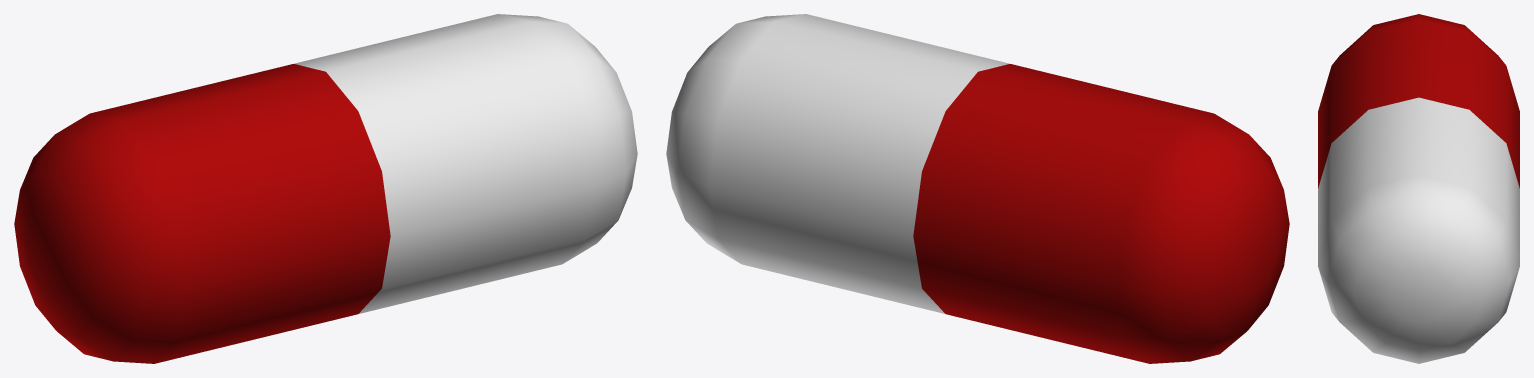
File: pill.fbx
3 renders of one model, left to right at view 1: azimuth 30°, elevation 25°; view 2: azimuth 150°, elevation 25°; view 3: azimuth 270°, elevation 25°, orthographic. The views are drawn at different scales.
Parts seen in each view (by area): view 1: pill; view 2: pill; view 3: pill.
Part boxes in pixels (x1,y1,x2,y2): pill: [14, 14, 637, 363]; pill: [666, 14, 1289, 363]; pill: [1318, 14, 1519, 363].
Bounding box in the file's own units: 12.4 × 4.96 × 4.96.
